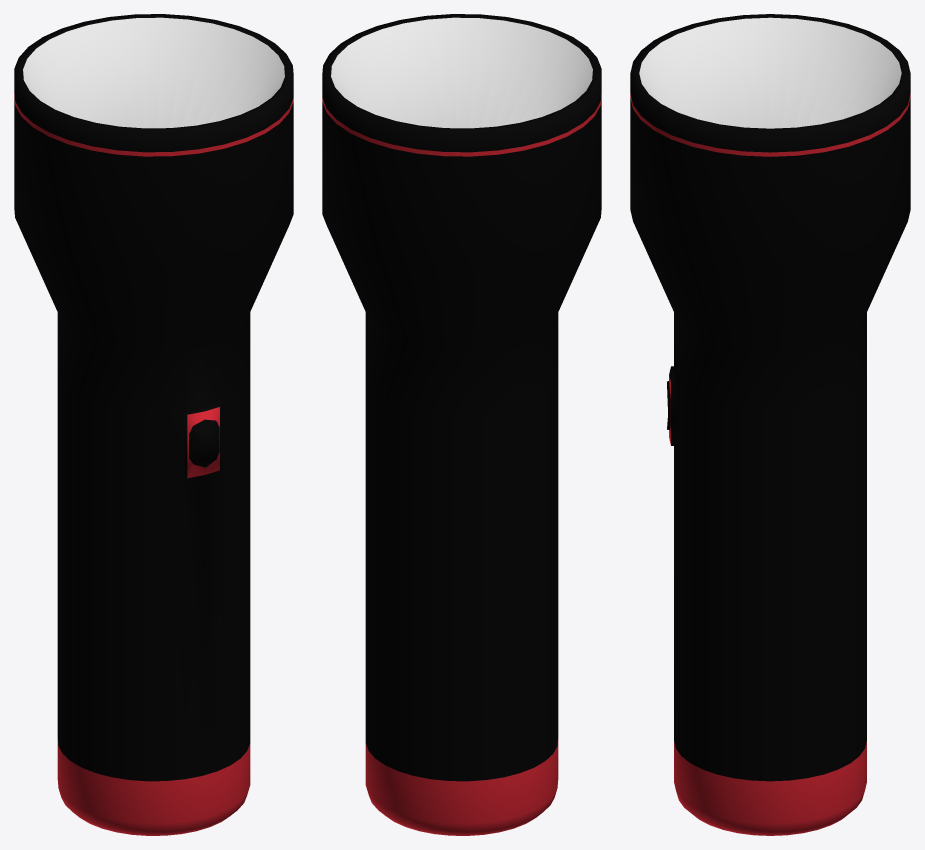
Rendered from FlashLight.fbx.
3 renders of one model, left to right at view 1: azimuth 30°, elevation 25°; view 2: azimuth 150°, elevation 25°; view 3: azimuth 270°, elevation 25°, orthographic.
Visible parts, largest first — view 1: Cylinder; view 2: Cylinder; view 3: Cylinder.
Boxes of the visible parts, left/top/right/bottom form: Cylinder: left=14, top=14, right=293, bottom=835; Cylinder: left=322, top=14, right=601, bottom=835; Cylinder: left=630, top=14, right=910, bottom=835.
Bounding box in the file's own units: 291 × 835 × 291.
